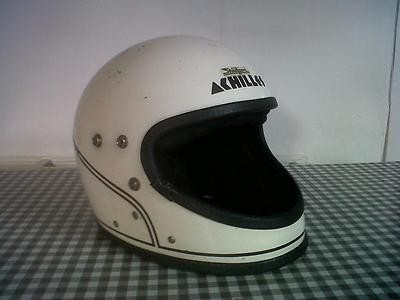with_helmet: (73, 31, 319, 266)
